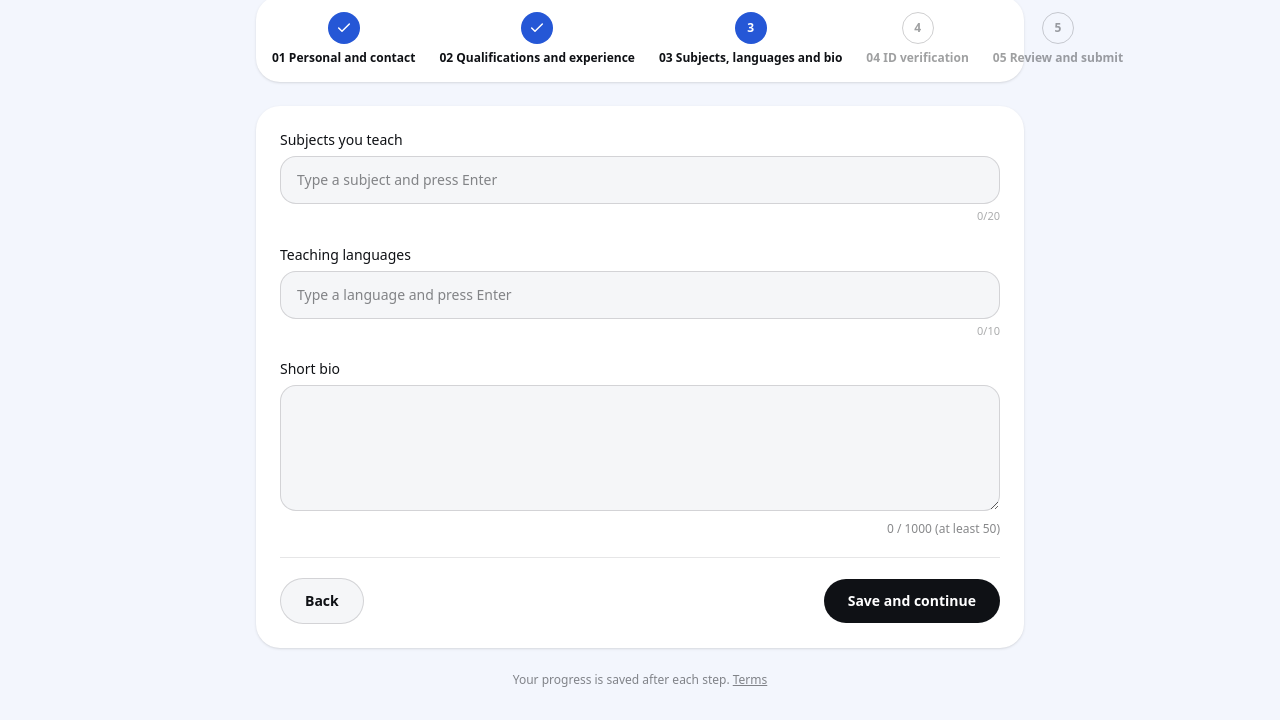
it: onboarding validation and resume › resumes at step 3 after a refresh and blocks an invalid step without a request
(page scrolled)
Click the button "Save and continue" at coordinates (912, 601), box top-left (824, 579), bottom-right (1000, 623)
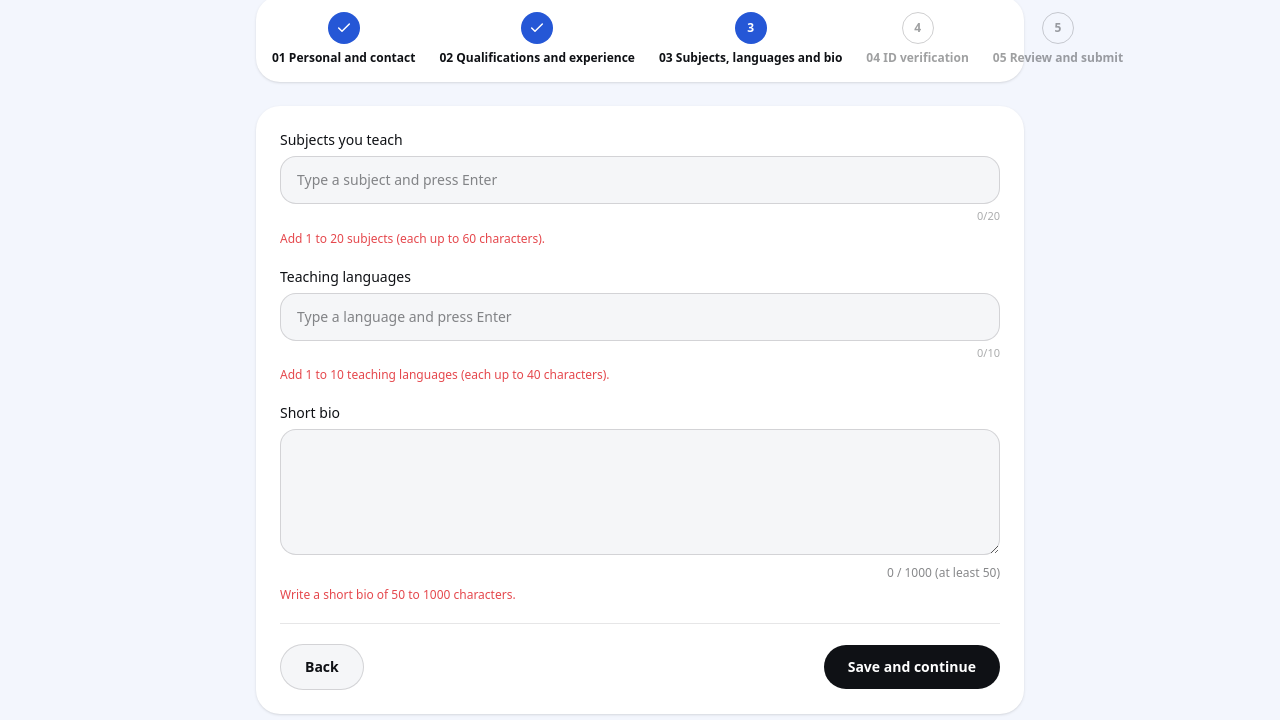
Expected: the text "Write a short bio of 50 to 1000 characters." is shown, top-left (280, 586), bottom-right (516, 603)
